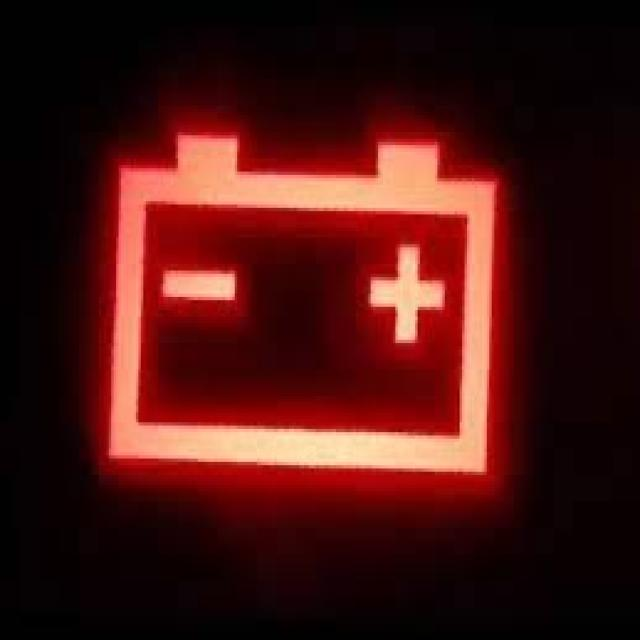kontrolka: (96, 111, 520, 514)
